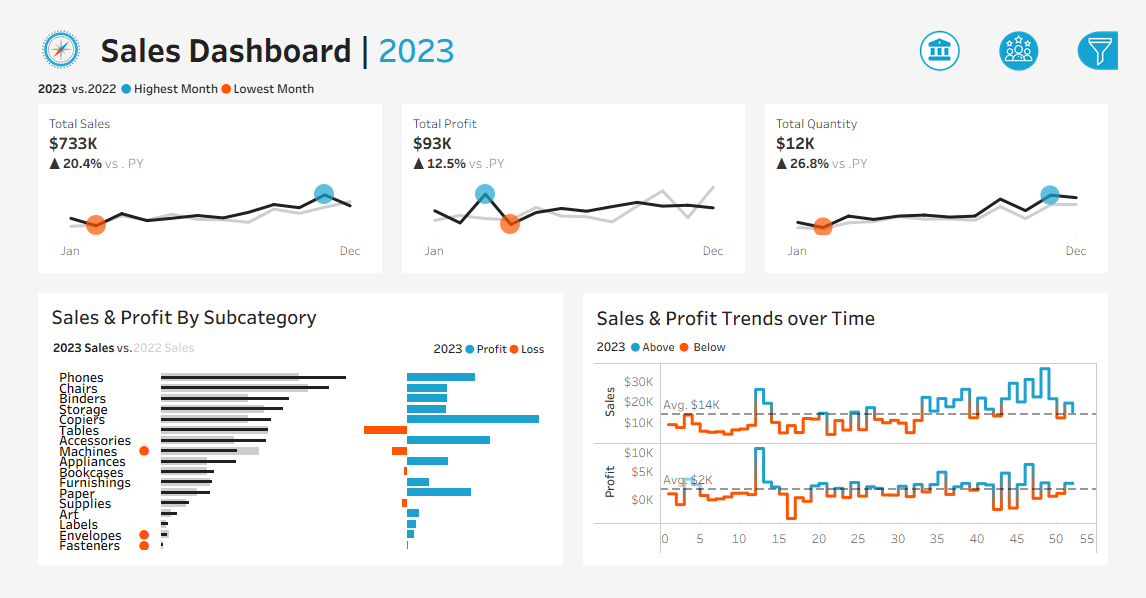

The dashboard page shown, as its layout file describes it:
{"tool":"tableau","page":{"name":"Sales Dashboard ","canvas":[1090,550],"ordinal":1},"visuals":[{"type":"image","param":"Image/Icon - Logo.png","box":[0,0,66,48]},{"type":"text","box":[66,0,1024,48]},{"type":"dashboard-object","box":[872,1,79,49]},{"type":"dashboard-object","box":[951,1,79,49]},{"type":"text","box":[895,9,181,110]},{"type":"worksheet","title":"Legend KPI","mark":"Automatic","box":[0,48,1090,31]},{"type":"worksheet","title":"Total Sales KPI","mark":"Automatic","rows":["Calculation_1249636596637700"],"cols":["Order Date"],"box":[0,79,364,179]},{"type":"worksheet","title":"Total Profit KPI","mark":"Automatic","rows":["Calculation_1249636605927438"],"cols":["Order Date"],"box":[364,79,363,179]},{"type":"worksheet","title":"Total Quantity KPI","mark":"Automatic","rows":["Calculation_1011317688905734"],"cols":["Order Date"],"box":[727,79,363,179]},{"type":"parameter","param":"[Parameters].[Parameter 1]","box":[895,119,181,64]},{"type":"text","box":[895,183,181,36]},{"type":"filter","title":"Total Sales KPI","param":"[federated.0pg33ht13qnrs71adlfee1mj8owb].[none:Category:nk]","box":[895,219,181,55]},{"type":"filter","title":"Total Sales KPI","param":"[federated.0pg33ht13qnrs71adlfee1mj8owb].[none:Sub-Category:nk]","box":[895,274,181,54]},{"type":"text","box":[17,275,511,32]},{"type":"text","box":[562,275,511,34]},{"type":"worksheet","title":"Legend Category","mark":"Automatic","box":[17,307,382,32]},{"type":"text","box":[399,307,129,32]},{"type":"text","box":[562,309,511,25]},{"type":"blank","box":[895,328,181,33]},{"type":"worksheet","title":"Weekly Trends","mark":"Automatic","rows":["Calculation_1249636592074753","Calculation_1249636605562891"],"cols":["Order Date"],"box":[562,334,511,199]},{"type":"worksheet","title":"Subcategory Comparison","mark":"Bar","rows":["Sub-Category","Calculation_1011317697482761"],"cols":["Calculation_1249636592238594","Calculation_1249636592074753","Calculation_1249636605562891"],"box":[17,339,511,193.9]},{"type":"text","box":[895,361,181,29]},{"type":"filter","title":"Total Sales KPI","param":"[federated.0pg33ht13qnrs71adlfee1mj8owb].[none:Region:nk]","box":[895,390,181,45.7]},{"type":"filter","title":"Total Sales KPI","param":"[federated.0pg33ht13qnrs71adlfee1mj8owb].[none:State:nk]","box":[895,435.7,181,45.7]},{"type":"filter","title":"Total Sales KPI","param":"[federated.0pg33ht13qnrs71adlfee1mj8owb].[none:City:nk]","box":[895,481.3,181,45.7]}]}

Visuals, with their boxes on the page's 1090x550 design canvas (x1, y1, x2, y2). These are canvas units, not pixel positions in the 1146x598 screenshot, which may show the page scaled, cropped or inside an application window:
image: box(0, 0, 66, 48)
text: box(66, 0, 1090, 48)
dashboard-object: box(872, 1, 951, 50)
dashboard-object: box(951, 1, 1030, 50)
text: box(895, 9, 1076, 119)
"Legend KPI" worksheet: box(0, 48, 1090, 79)
"Total Sales KPI" worksheet: box(0, 79, 364, 258)
"Total Profit KPI" worksheet: box(364, 79, 727, 258)
"Total Quantity KPI" worksheet: box(727, 79, 1090, 258)
parameter: box(895, 119, 1076, 183)
text: box(895, 183, 1076, 219)
"Total Sales KPI" filter: box(895, 219, 1076, 274)
"Total Sales KPI" filter: box(895, 274, 1076, 328)
text: box(17, 275, 528, 307)
text: box(562, 275, 1073, 309)
"Legend Category" worksheet: box(17, 307, 399, 339)
text: box(399, 307, 528, 339)
text: box(562, 309, 1073, 334)
blank: box(895, 328, 1076, 361)
"Weekly Trends" worksheet: box(562, 334, 1073, 533)
"Subcategory Comparison" worksheet (Bar marks): box(17, 339, 528, 533)
text: box(895, 361, 1076, 390)
"Total Sales KPI" filter: box(895, 390, 1076, 436)
"Total Sales KPI" filter: box(895, 436, 1076, 481)
"Total Sales KPI" filter: box(895, 481, 1076, 527)
